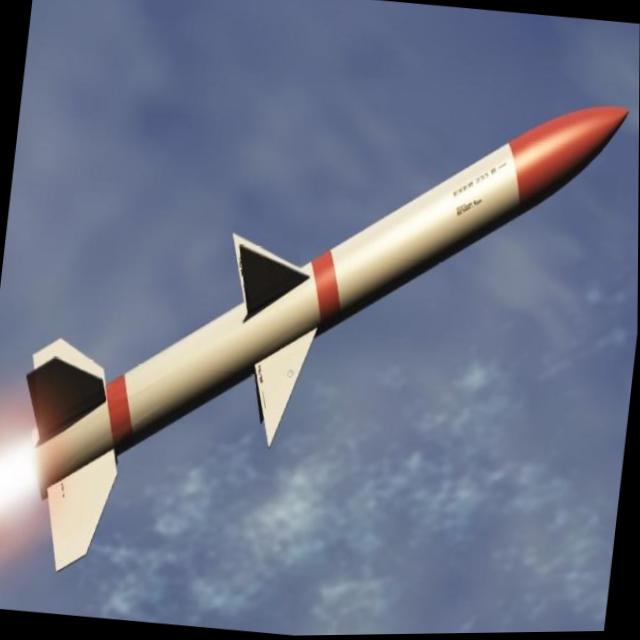missile: (4, 47, 630, 621)
